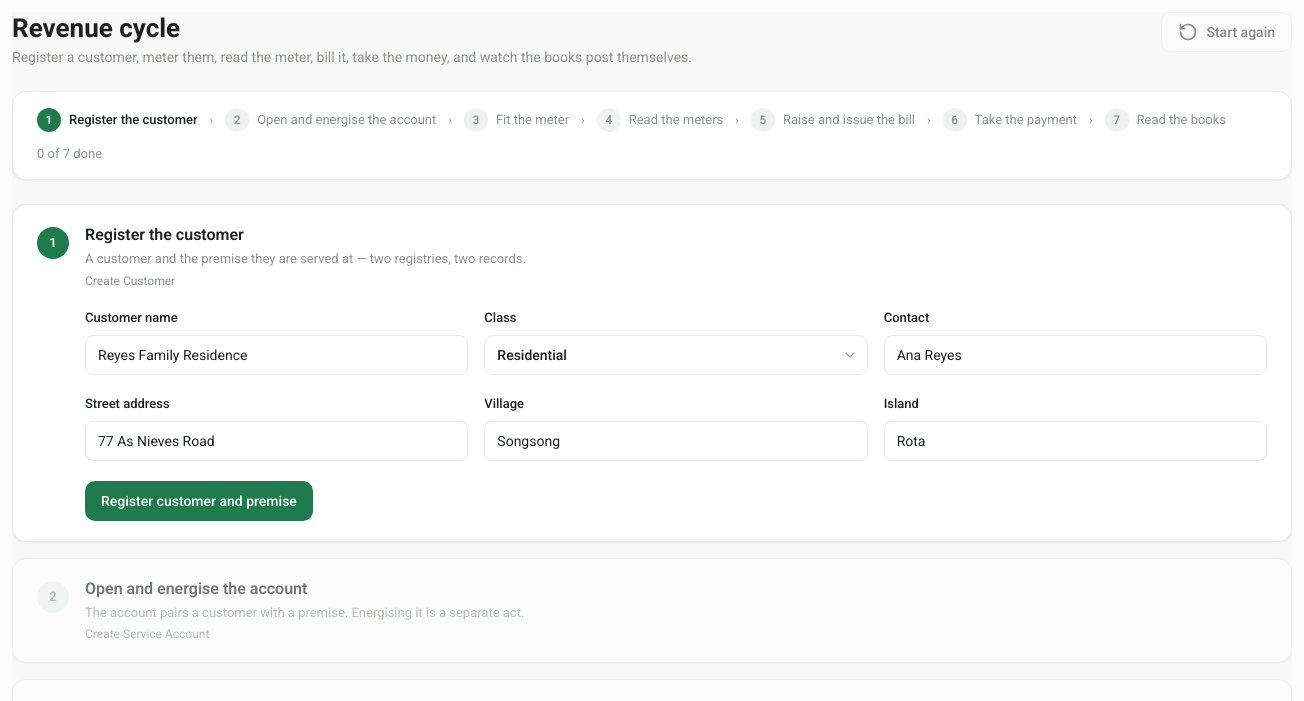
Test: RevenueCyclePage › registers the customer and the premise as two records, not one
Click the button "Register customer and premise": (199, 500) top-left (85, 480), bottom-right (313, 520)
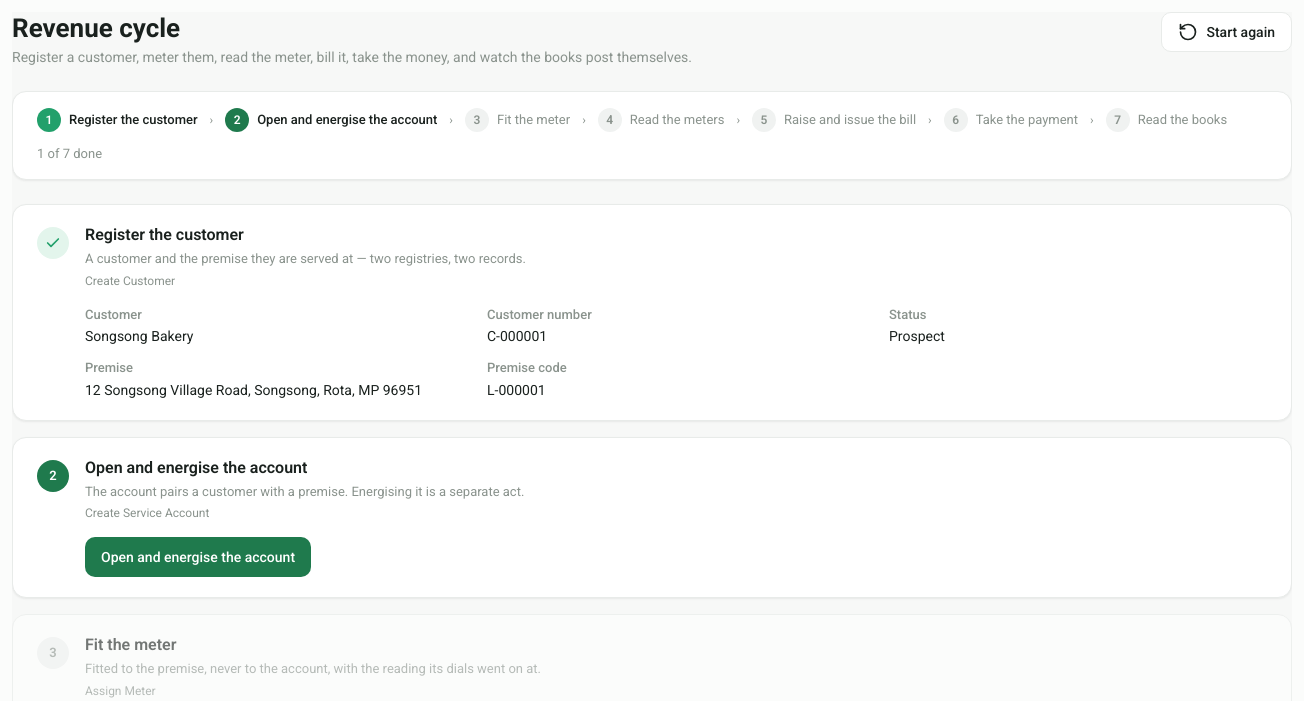
Result: the text "C-000001" is shown at top-left (487, 328), bottom-right (547, 344)
Result: the text "L-000001" is shown at top-left (487, 382), bottom-right (546, 398)
